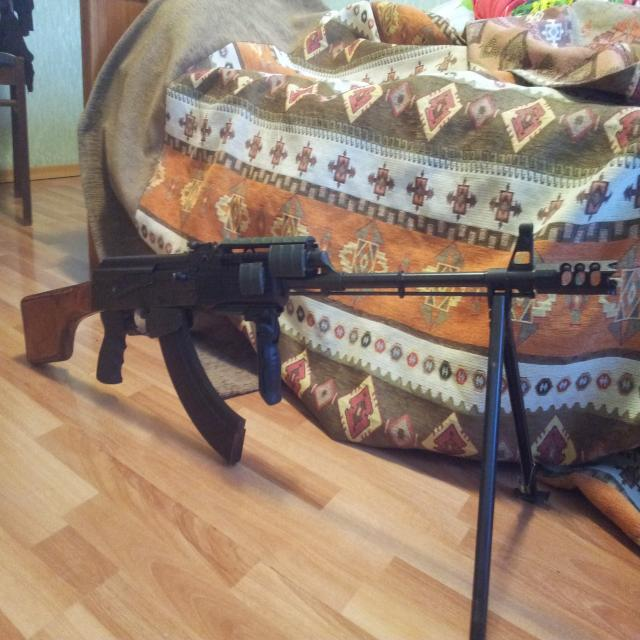firearm: (20, 223, 620, 462)
